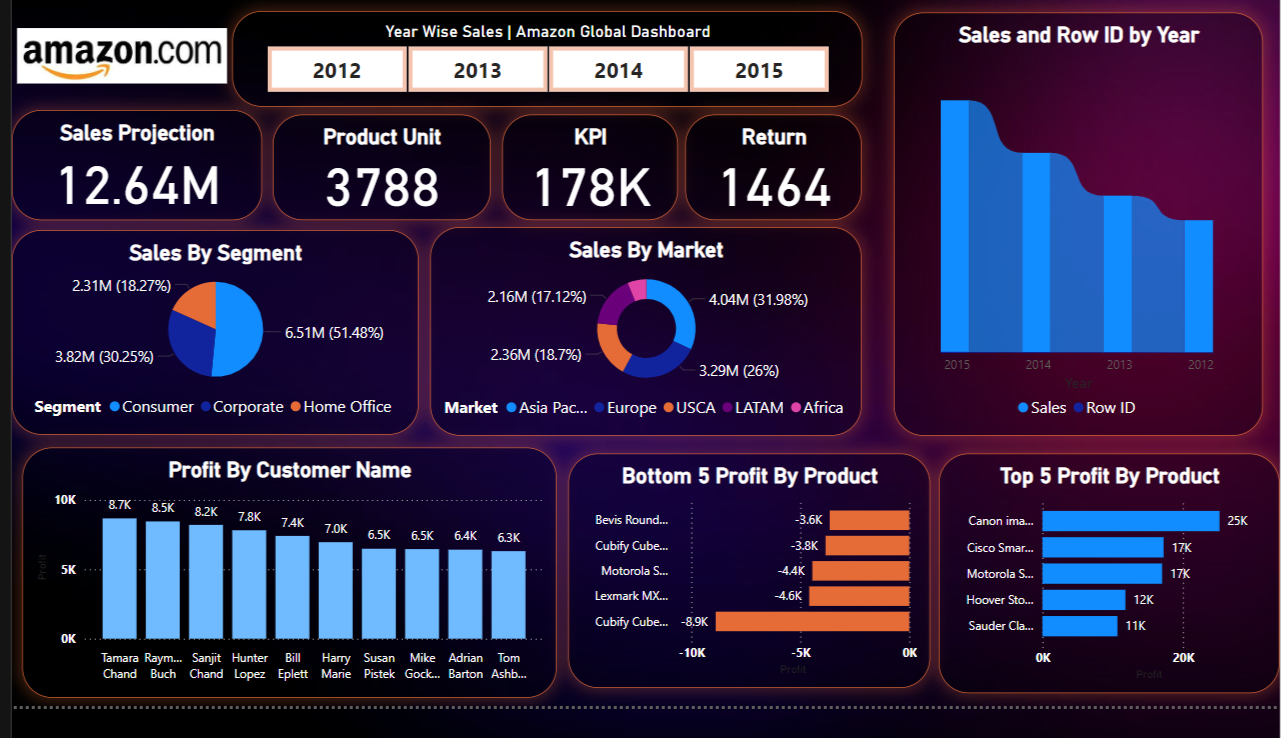

What the dashboard file says about the page in this screenshot:
{"tool":"powerbi","page":{"name":"Report 2","canvas":[1280,720],"ordinal":1},"visuals":[{"type":"slicer","title":"Year Wise Sales | Amazon Global Dashboard ","fields":{"Values":["Orders.Year"]},"box":[222.1,17.9,635.9,96.4],"z":0},{"type":"card","title":"Sales Projection","fields":{"Values":["Orders.Sales"]},"box":[0,117.8,252.3,111],"z":1000},{"type":"image","box":[0,6.7,222.1,114.4],"z":2000},{"type":"card","title":"Product Unit","fields":{"Values":["Orders.Product Name"]},"box":[263.6,122.2,219.8,106.5],"z":3000},{"type":"card","title":"KPI","fields":{"Values":["Orders.Quantity"]},"box":[494.6,122.2,177.2,106.5],"z":4000},{"type":"card","title":"Return","fields":{"Values":["Orders.Ship Date"]},"box":[679.6,122.2,178.3,106.5],"z":5000},{"type":"pieChart","title":"Sales By Segment","fields":{"Y":["Orders.Sales"],"Category":["Orders.Segment"]},"box":[0,240,410.5,206.4],"z":6000},{"type":"donutChart","title":"Sales By Market","fields":{"Y":["Orders.Sales"],"Category":["Orders.Market"]},"box":[422.8,235.5,435.1,210.8],"z":7000},{"type":"columnChart","title":"Profit By Customer Name","fields":{"Category":["Orders.Customer Name"],"Y":["Orders.Profit"]},"box":[11.2,458.7,539.4,252.3],"z":8000},{"type":"clusteredBarChart","title":"Top 5 Profit By Product ","fields":{"Y":["Orders.Profit"],"Category":["Orders.Product Name"]},"box":[935.3,464.3,344.3,242.2],"z":9000},{"type":"clusteredBarChart","title":"Bottom 5 Profit By Product","fields":{"Y":["Orders.Profit"],"Category":["Orders.Product Name"]},"box":[561.9,464.3,365.6,236.6],"z":10000},{"type":"ribbonChart","fields":{"Y":["Orders.Sales","Orders.Row ID"],"Category":["Orders.Year"]},"box":[890.4,19.7,372.5,427],"z":10001}]}

Visuals, with their boxes in screenshot pixels (x1, y1, x2, y2), scaled from the page's 1280x720 canvas onto the 1285x738 screenshot:
"Year Wise Sales | Amazon Global Dashboard " slicer: Rect(223, 18, 861, 117)
"Sales Projection" card: Rect(0, 121, 253, 235)
image: Rect(0, 7, 223, 124)
"Product Unit" card: Rect(265, 125, 485, 234)
"KPI" card: Rect(497, 125, 674, 234)
"Return" card: Rect(682, 125, 861, 234)
"Sales By Segment" pieChart: Rect(0, 246, 412, 458)
"Sales By Market" donutChart: Rect(424, 241, 861, 457)
"Profit By Customer Name" columnChart: Rect(11, 470, 553, 729)
"Top 5 Profit By Product " clusteredBarChart: Rect(939, 476, 1284, 724)
"Bottom 5 Profit By Product" clusteredBarChart: Rect(564, 476, 931, 718)
ribbonChart - Orders.Sales x Orders.Row ID: Rect(894, 20, 1268, 458)
